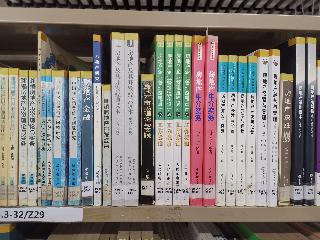book-spine: (202, 36, 219, 207), (190, 35, 206, 206), (111, 33, 126, 206), (161, 34, 176, 207), (303, 35, 318, 206), (124, 33, 138, 206), (179, 35, 193, 207), (267, 50, 282, 206), (292, 38, 306, 205), (223, 55, 238, 208), (278, 75, 295, 206), (139, 74, 155, 205), (257, 49, 270, 208), (66, 72, 81, 206), (246, 57, 259, 207), (52, 70, 66, 207), (24, 70, 38, 206), (80, 72, 94, 205), (17, 70, 30, 207), (173, 34, 183, 206), (155, 35, 165, 206), (93, 35, 103, 204), (6, 68, 18, 206), (217, 53, 227, 207), (237, 56, 247, 207), (0, 67, 9, 206), (102, 85, 112, 207), (44, 70, 52, 207), (38, 70, 46, 206), (36, 32, 42, 207)
